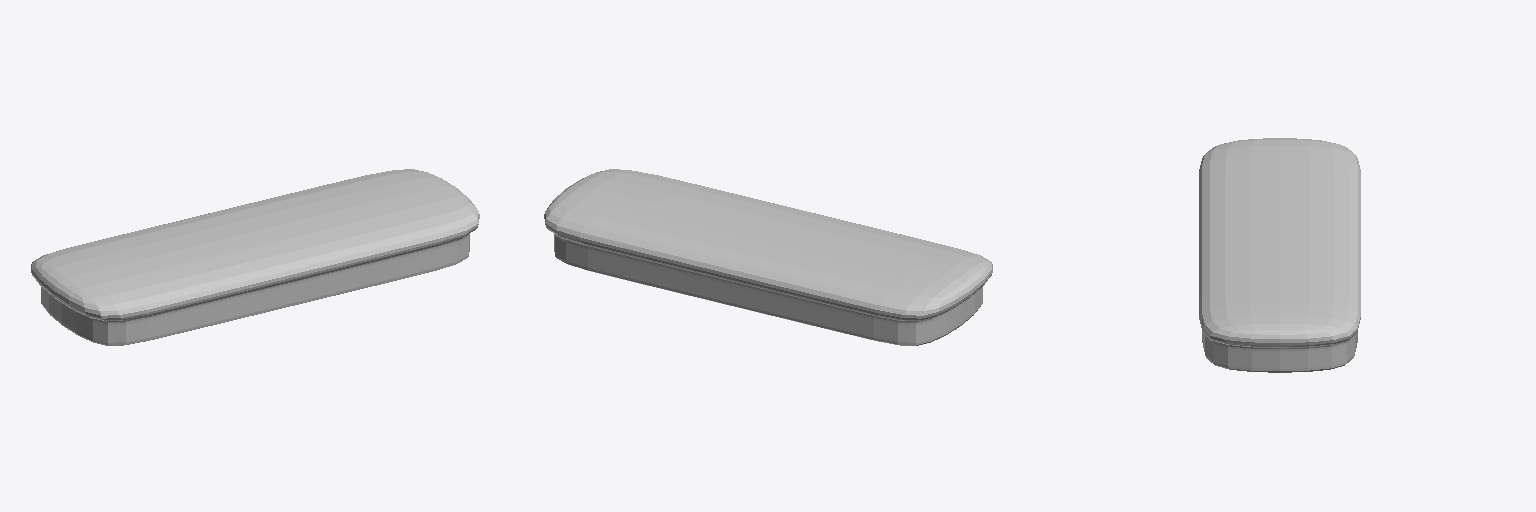
The model's file is plataforma.obj.
3 views of the same model, side by side, from view 1: azimuth 30°, elevation 25°; view 2: azimuth 150°, elevation 25°; view 3: azimuth 270°, elevation 25° (orthographic).
Parts seen in each view (by area): view 1: Cube.001; view 2: Cube.001; view 3: Cube.001.
Part boxes in pixels (x1,y1,x2,y2): Cube.001: (31, 169, 479, 345); Cube.001: (544, 169, 992, 345); Cube.001: (1199, 138, 1360, 372).
Bounding box in the file's own units: 3.43 × 0.4025 × 1.19.